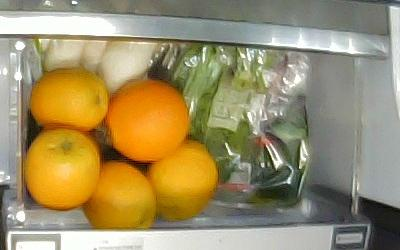orange: (105, 80, 190, 162), (24, 131, 102, 209), (143, 138, 217, 219), (81, 160, 155, 229), (29, 68, 108, 132)
